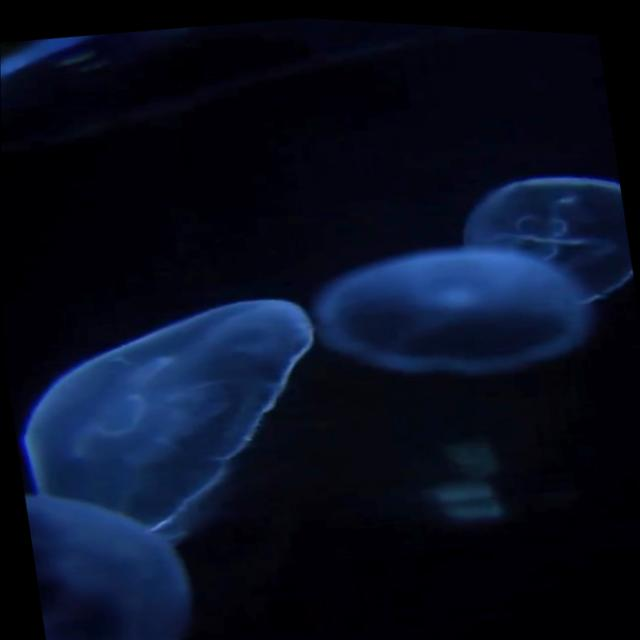Moon-jellyfish: (24, 296, 312, 527)
